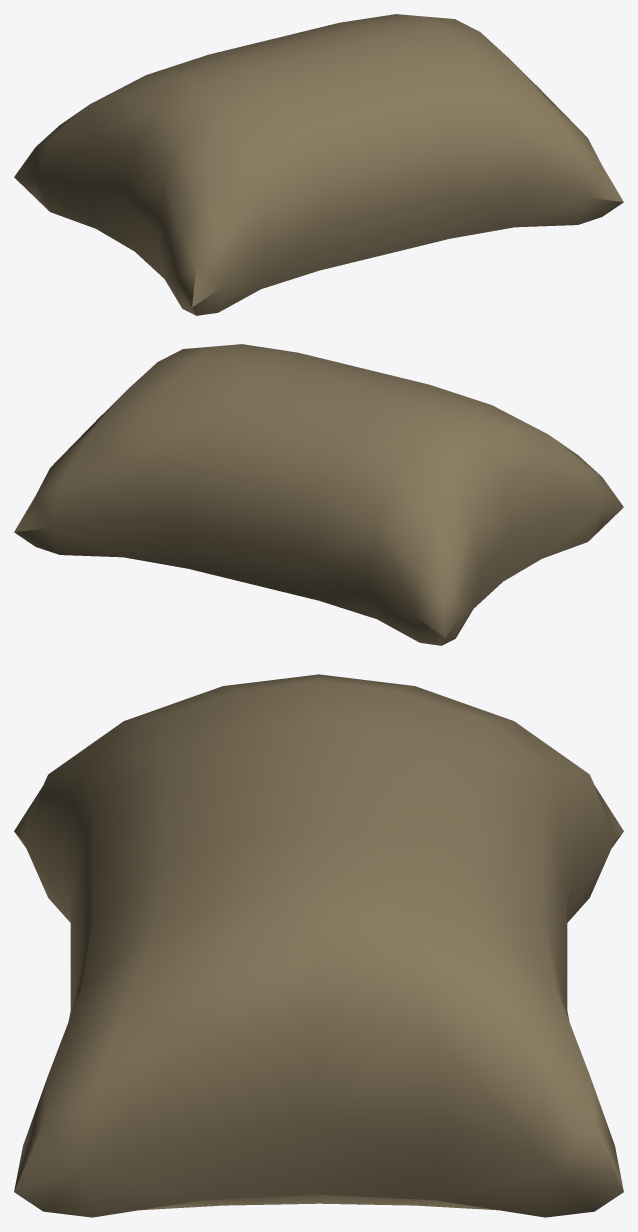
Rendered from Bag.glb.
The picture shows the model from 3 angles, top to bottom: view 1: azimuth 30°, elevation 25°; view 2: azimuth 150°, elevation 25°; view 3: azimuth 270°, elevation 25°; orthographic projection. The views are drawn at different scales.
Visible parts, largest first — view 1: Bag_Cube.253; view 2: Bag_Cube.253; view 3: Bag_Cube.253.
Boxes of the visible parts, x1=… form: Bag_Cube.253: x1=14, y1=14, x2=623, y2=315; Bag_Cube.253: x1=14, y1=344, x2=623, y2=645; Bag_Cube.253: x1=14, y1=674, x2=623, y2=1217.
Bounding box in the file's own units: 0.1535 × 0.0584 × 0.1096.
